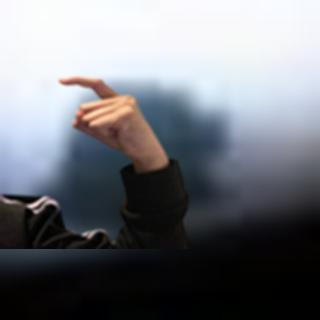WHY: (52, 69, 167, 168)
